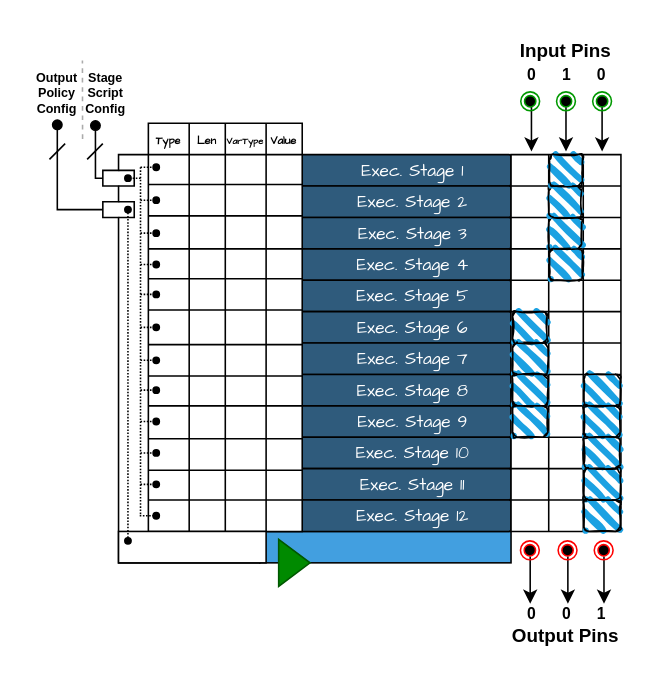
The diagram is 664 pixels wide and 686 high, and some of its shapes have lost their labels. Each missing label, with the box of its shape:
Output Policy Stage: (258, 530, 511, 563)
Policy Reg: (117, 530, 266, 563)
